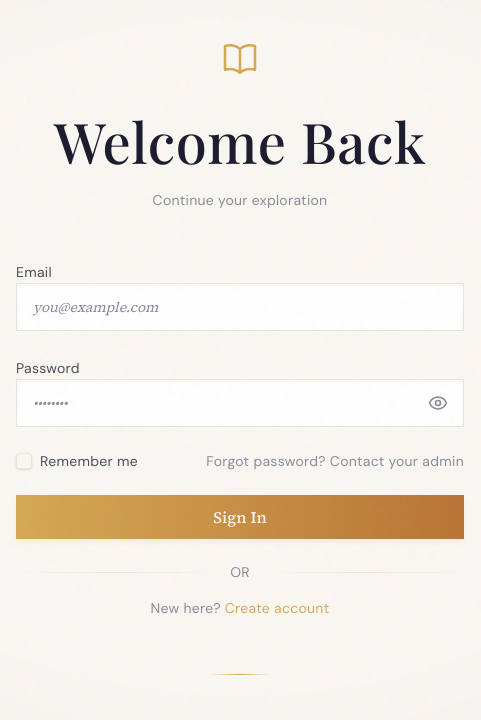
it: LoginPage › Form Validation › should show validation error for short password
The image size is (481, 720).
In the password field labelled "Password": (240, 403) [16,379,464,427], type "short"
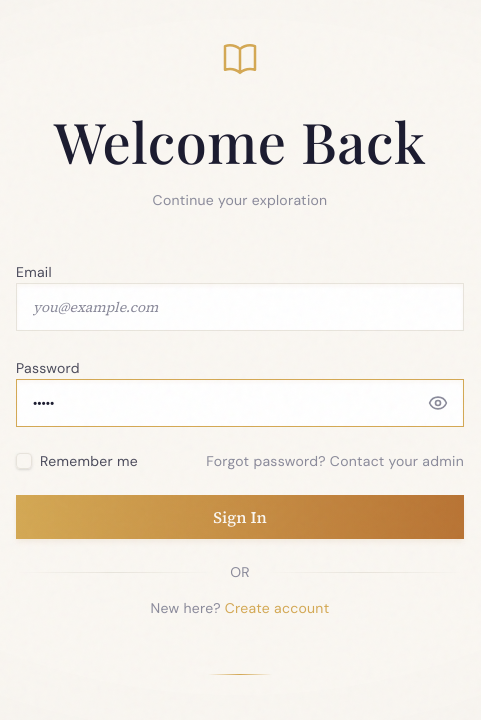
Click the button "Sign In": (240, 517) [16,495,464,539]
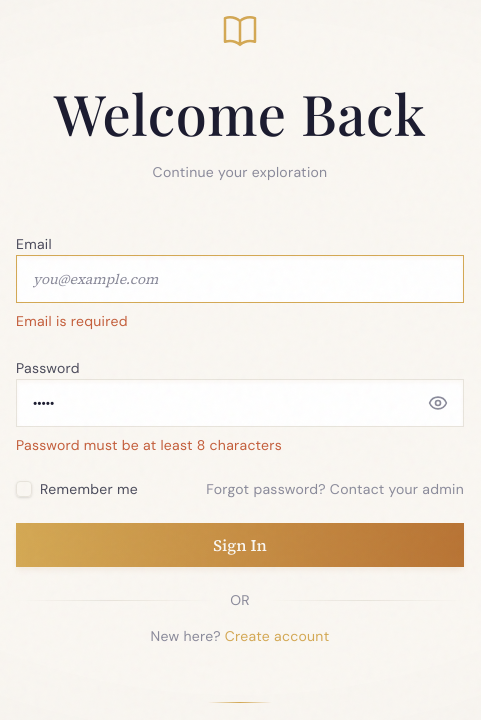
Expected: the text "Password must be at least 8 characters" is shown, [16,436,282,454]
